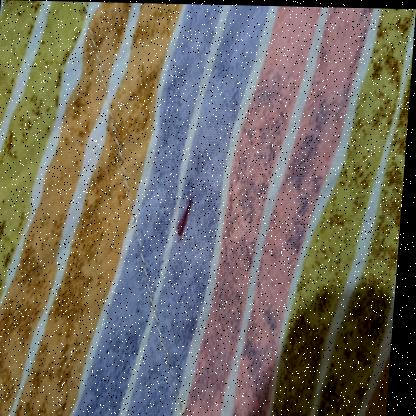spot: (174, 193, 196, 243)
